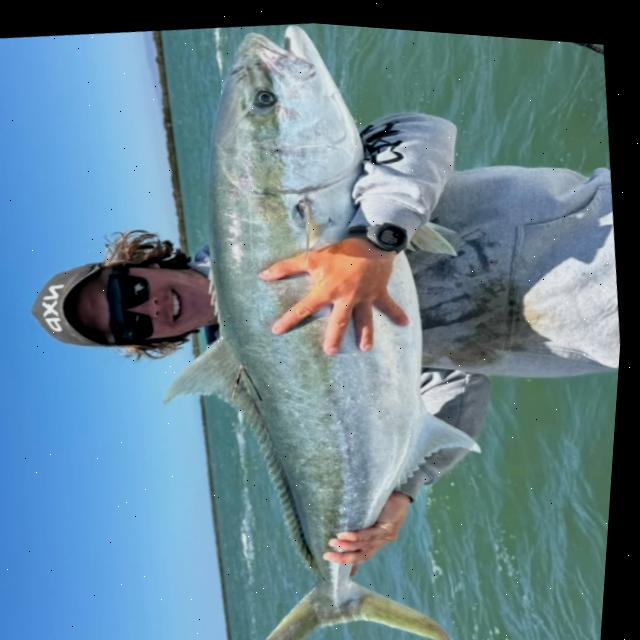Kingfish: (105, 8, 537, 640)
